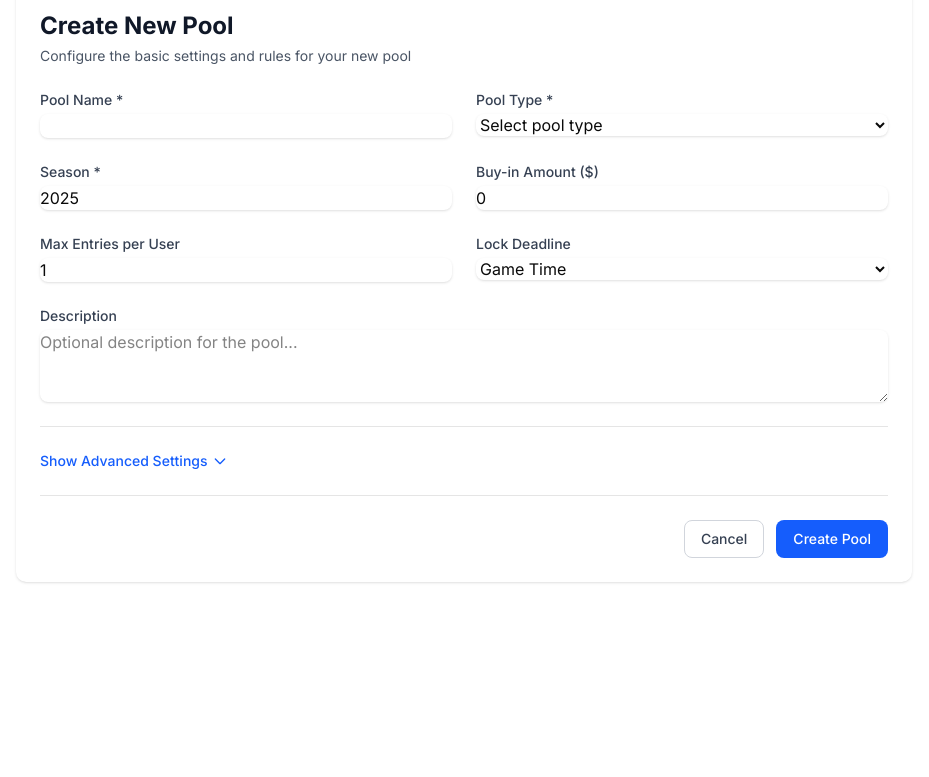
it: PoolConfigurationForm › shows pool type specific rule options
// Select ATS pool type
Step 1. Select "Against the Spread" in the dropdown labelled "Pool Type *" → (682, 125), box [476,114,888,136]
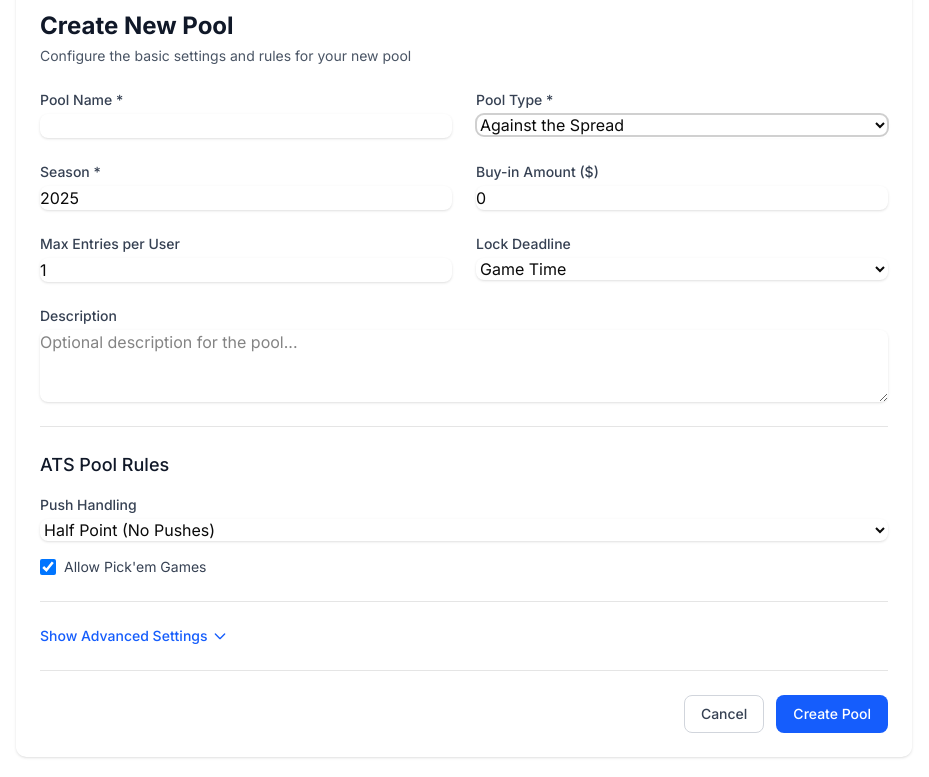
Check: the dropdown labelled "Push Handling" is shown, box [40,519,888,541]
Check: the checkbox labelled "Allow Pick'em Games" is shown, box [40,559,56,575]
// Select Points Plus pool type
Step 2. Select "Points Plus" in the dropdown labelled "Pool Type *" → (682, 125), box [476,114,888,136]
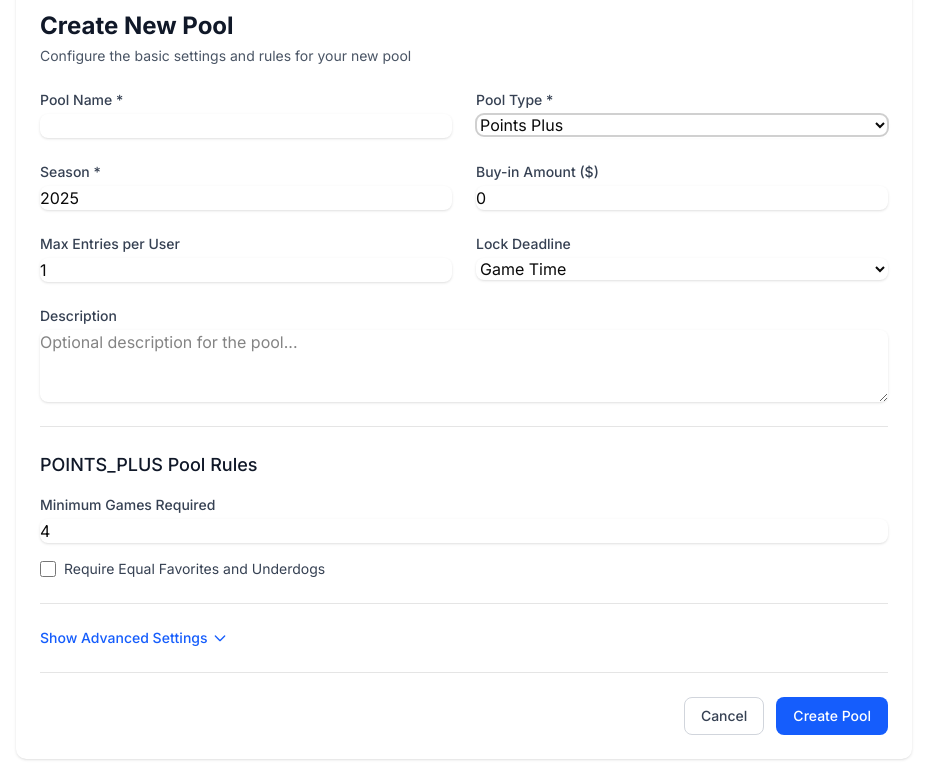
Check: the checkbox labelled "Require Equal Favorites and Underdogs" is shown, box [40,561,56,577]
Check: the number field labelled "Minimum Games Required" is shown, box [40,519,888,543]
// Select Survivor pool type
Step 3. Select "Survivor" in the dropdown labelled "Pool Type *" → (682, 125), box [476,114,888,136]
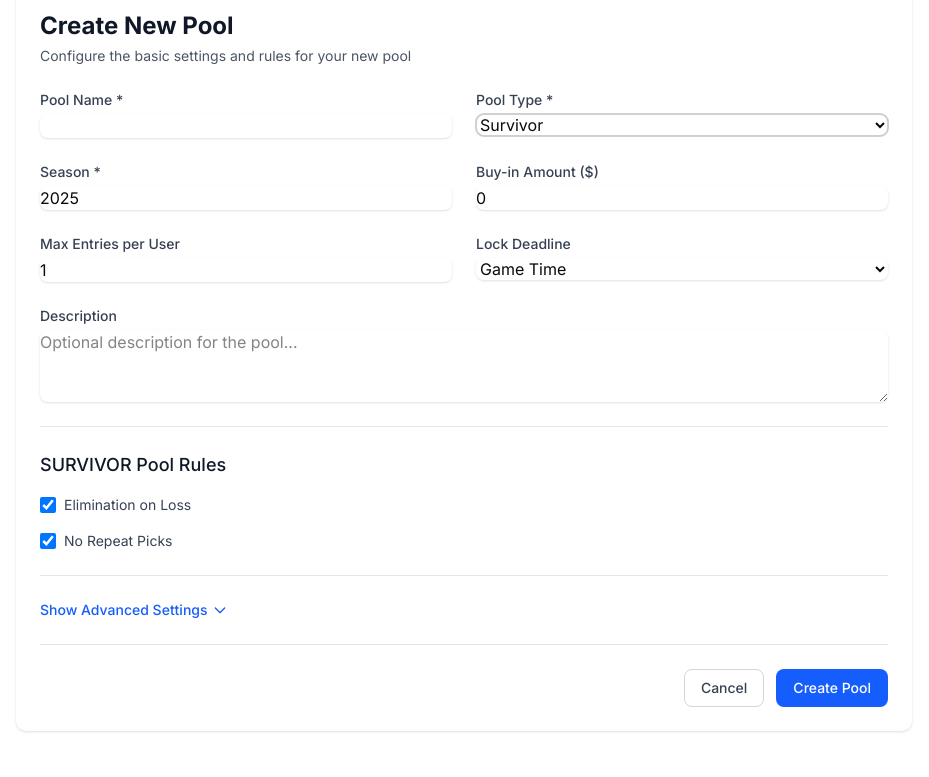
Check: the checkbox labelled "No Repeat Picks" is shown, box [40,533,56,549]
Check: the checkbox labelled "Elimination on Loss" is shown, box [40,497,56,513]
